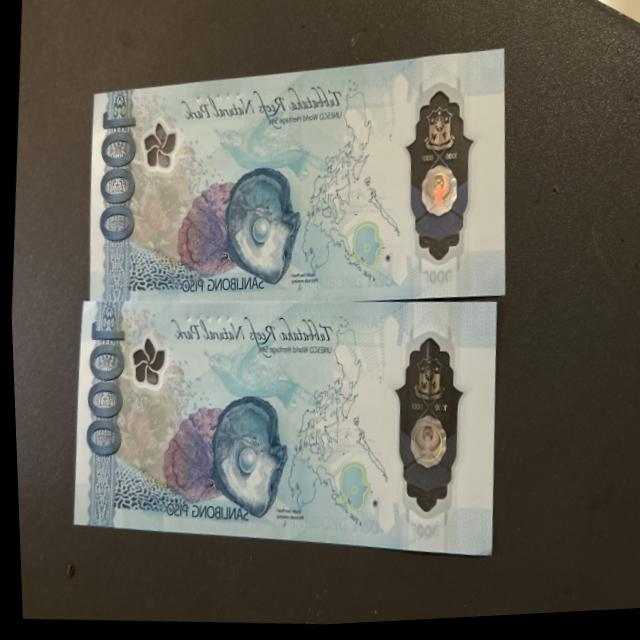clear_window: (368, 333, 466, 522), (391, 74, 480, 270)
sampaguita: (125, 333, 173, 396), (135, 119, 180, 178)
value: (76, 319, 131, 455), (87, 113, 140, 247)
